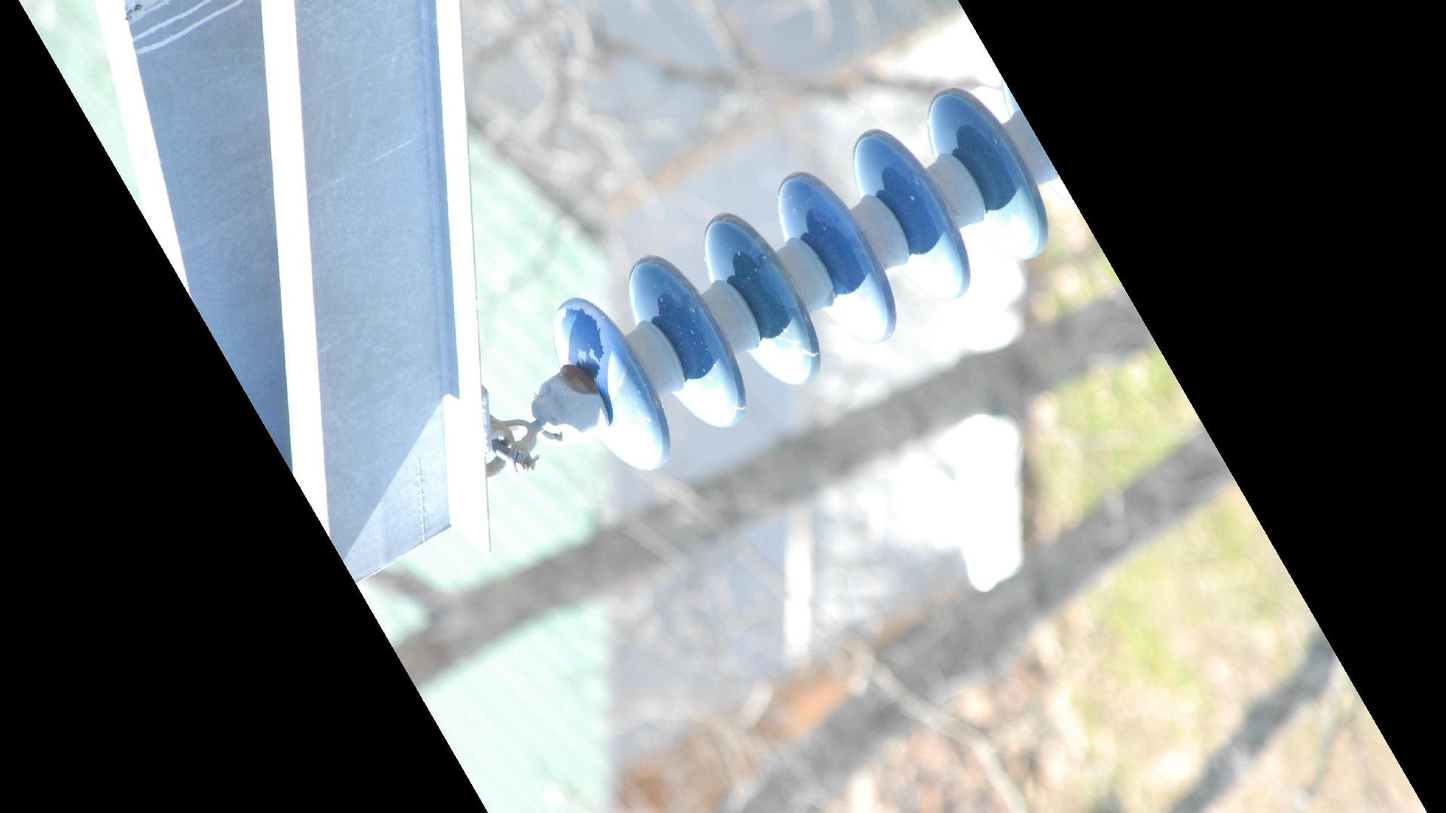insulator: (549, 84, 1056, 477)
insulator_flashover: (557, 305, 606, 376)
